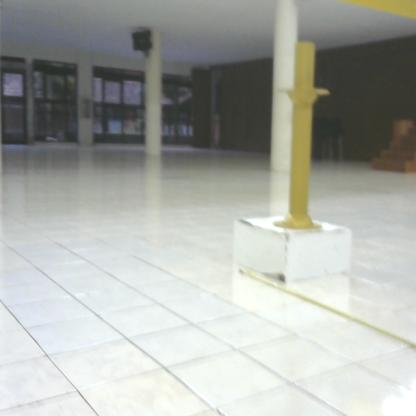pole: (272, 38, 338, 243)
